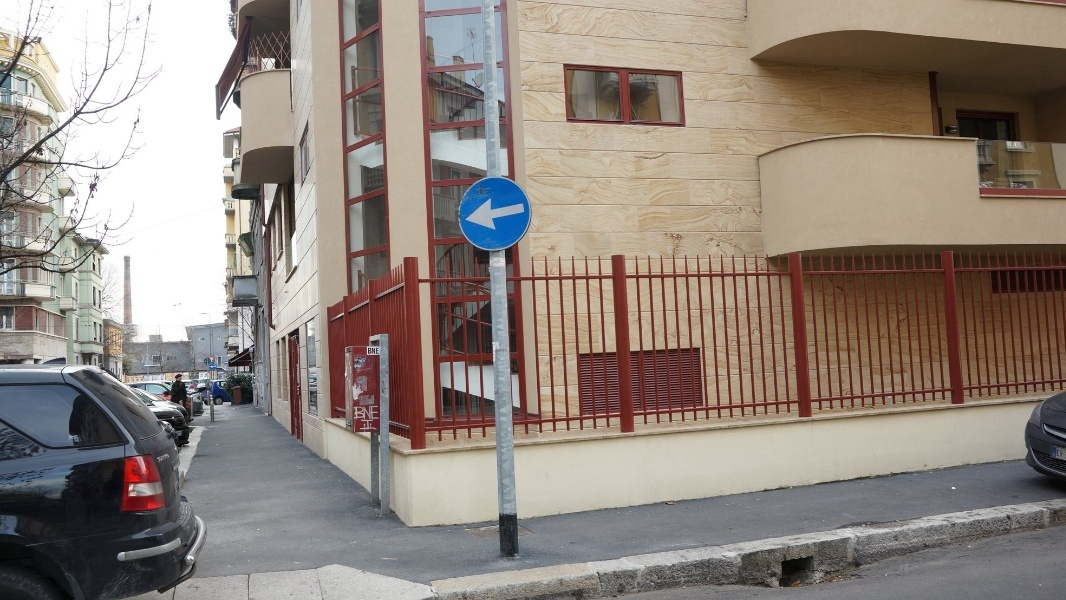text: (353, 405, 368, 421), (369, 405, 381, 421), (369, 419, 380, 430), (369, 347, 381, 356), (161, 453, 171, 463), (361, 419, 368, 430), (157, 453, 160, 463)
